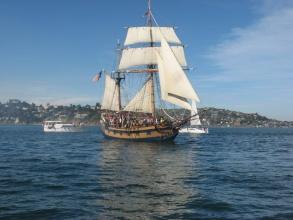fanchuan: (97, 6, 200, 141)
otherboat: (41, 119, 86, 135)
